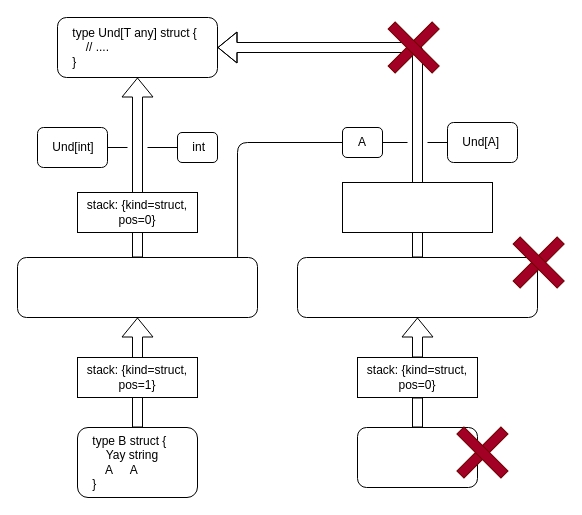
Image size: 582x515. Some labels were removed from this diagram. The shapes that lost their labels are listed below. From the top down, each one's box as (x1, y1, x2, y2) in pixels, then its label:
(342, 182, 492, 232): stack: {kind=struct, pos=0} {kind=chan}
(16, 256, 258, 318): type A struct { Foo und.Und[int] `und:"required"` }
(296, 256, 538, 318): type C struct { Foo chan und.Und[A] `und:"required"` }
(356, 426, 478, 488): type D struct { C C }
